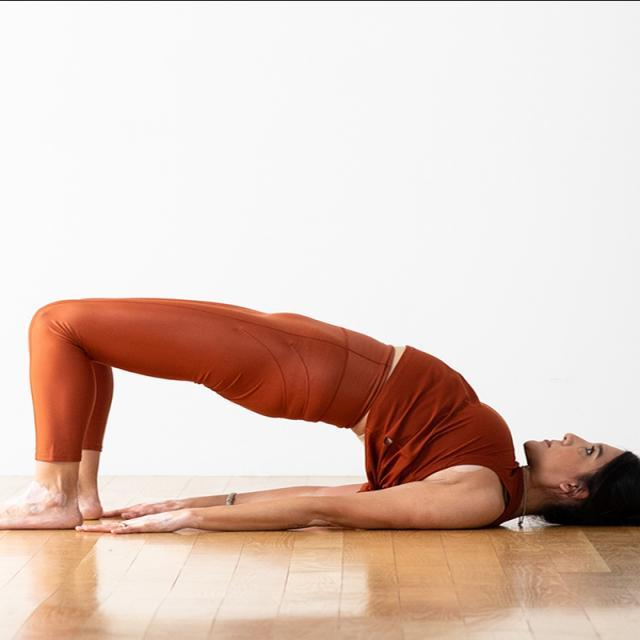yoga-pose bridge: (2, 288, 640, 547)
